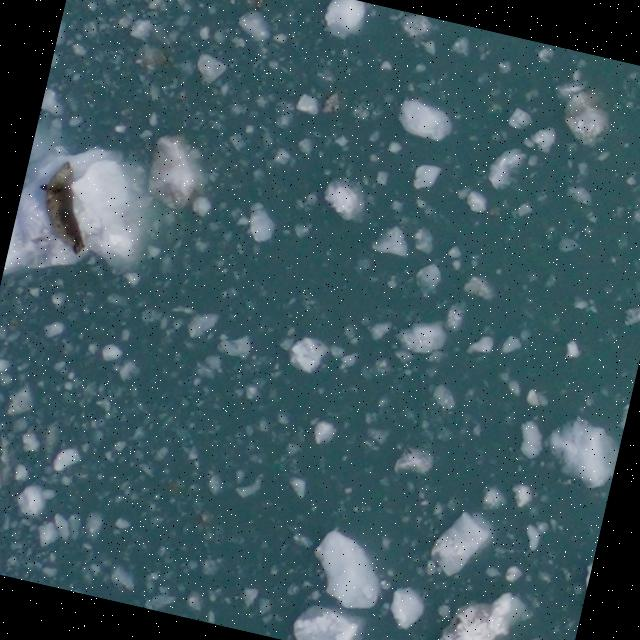seal: (22, 151, 109, 260)
